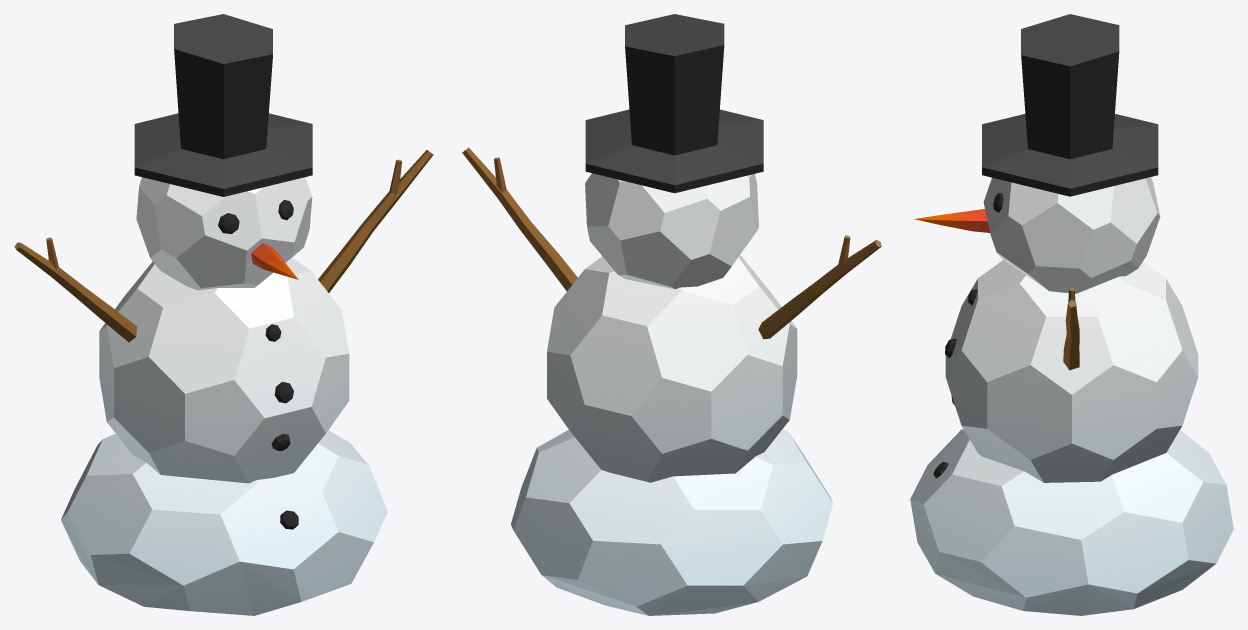
Rendered from HX-xueren.FBX.
The picture shows the model from 3 angles, left to right: view 1: azimuth 30°, elevation 25°; view 2: azimuth 150°, elevation 25°; view 3: azimuth 270°, elevation 25°; orthographic projection.
Parts seen in each view (by area): view 1: xueren; view 2: xueren; view 3: xueren.
Part boxes in pixels (x1,y1,x2,y2): xueren: (14,14,433,615); xueren: (462,14,881,615); xueren: (910,14,1233,615).
Bounding box in the file's own units: 588 × 743 × 399.
